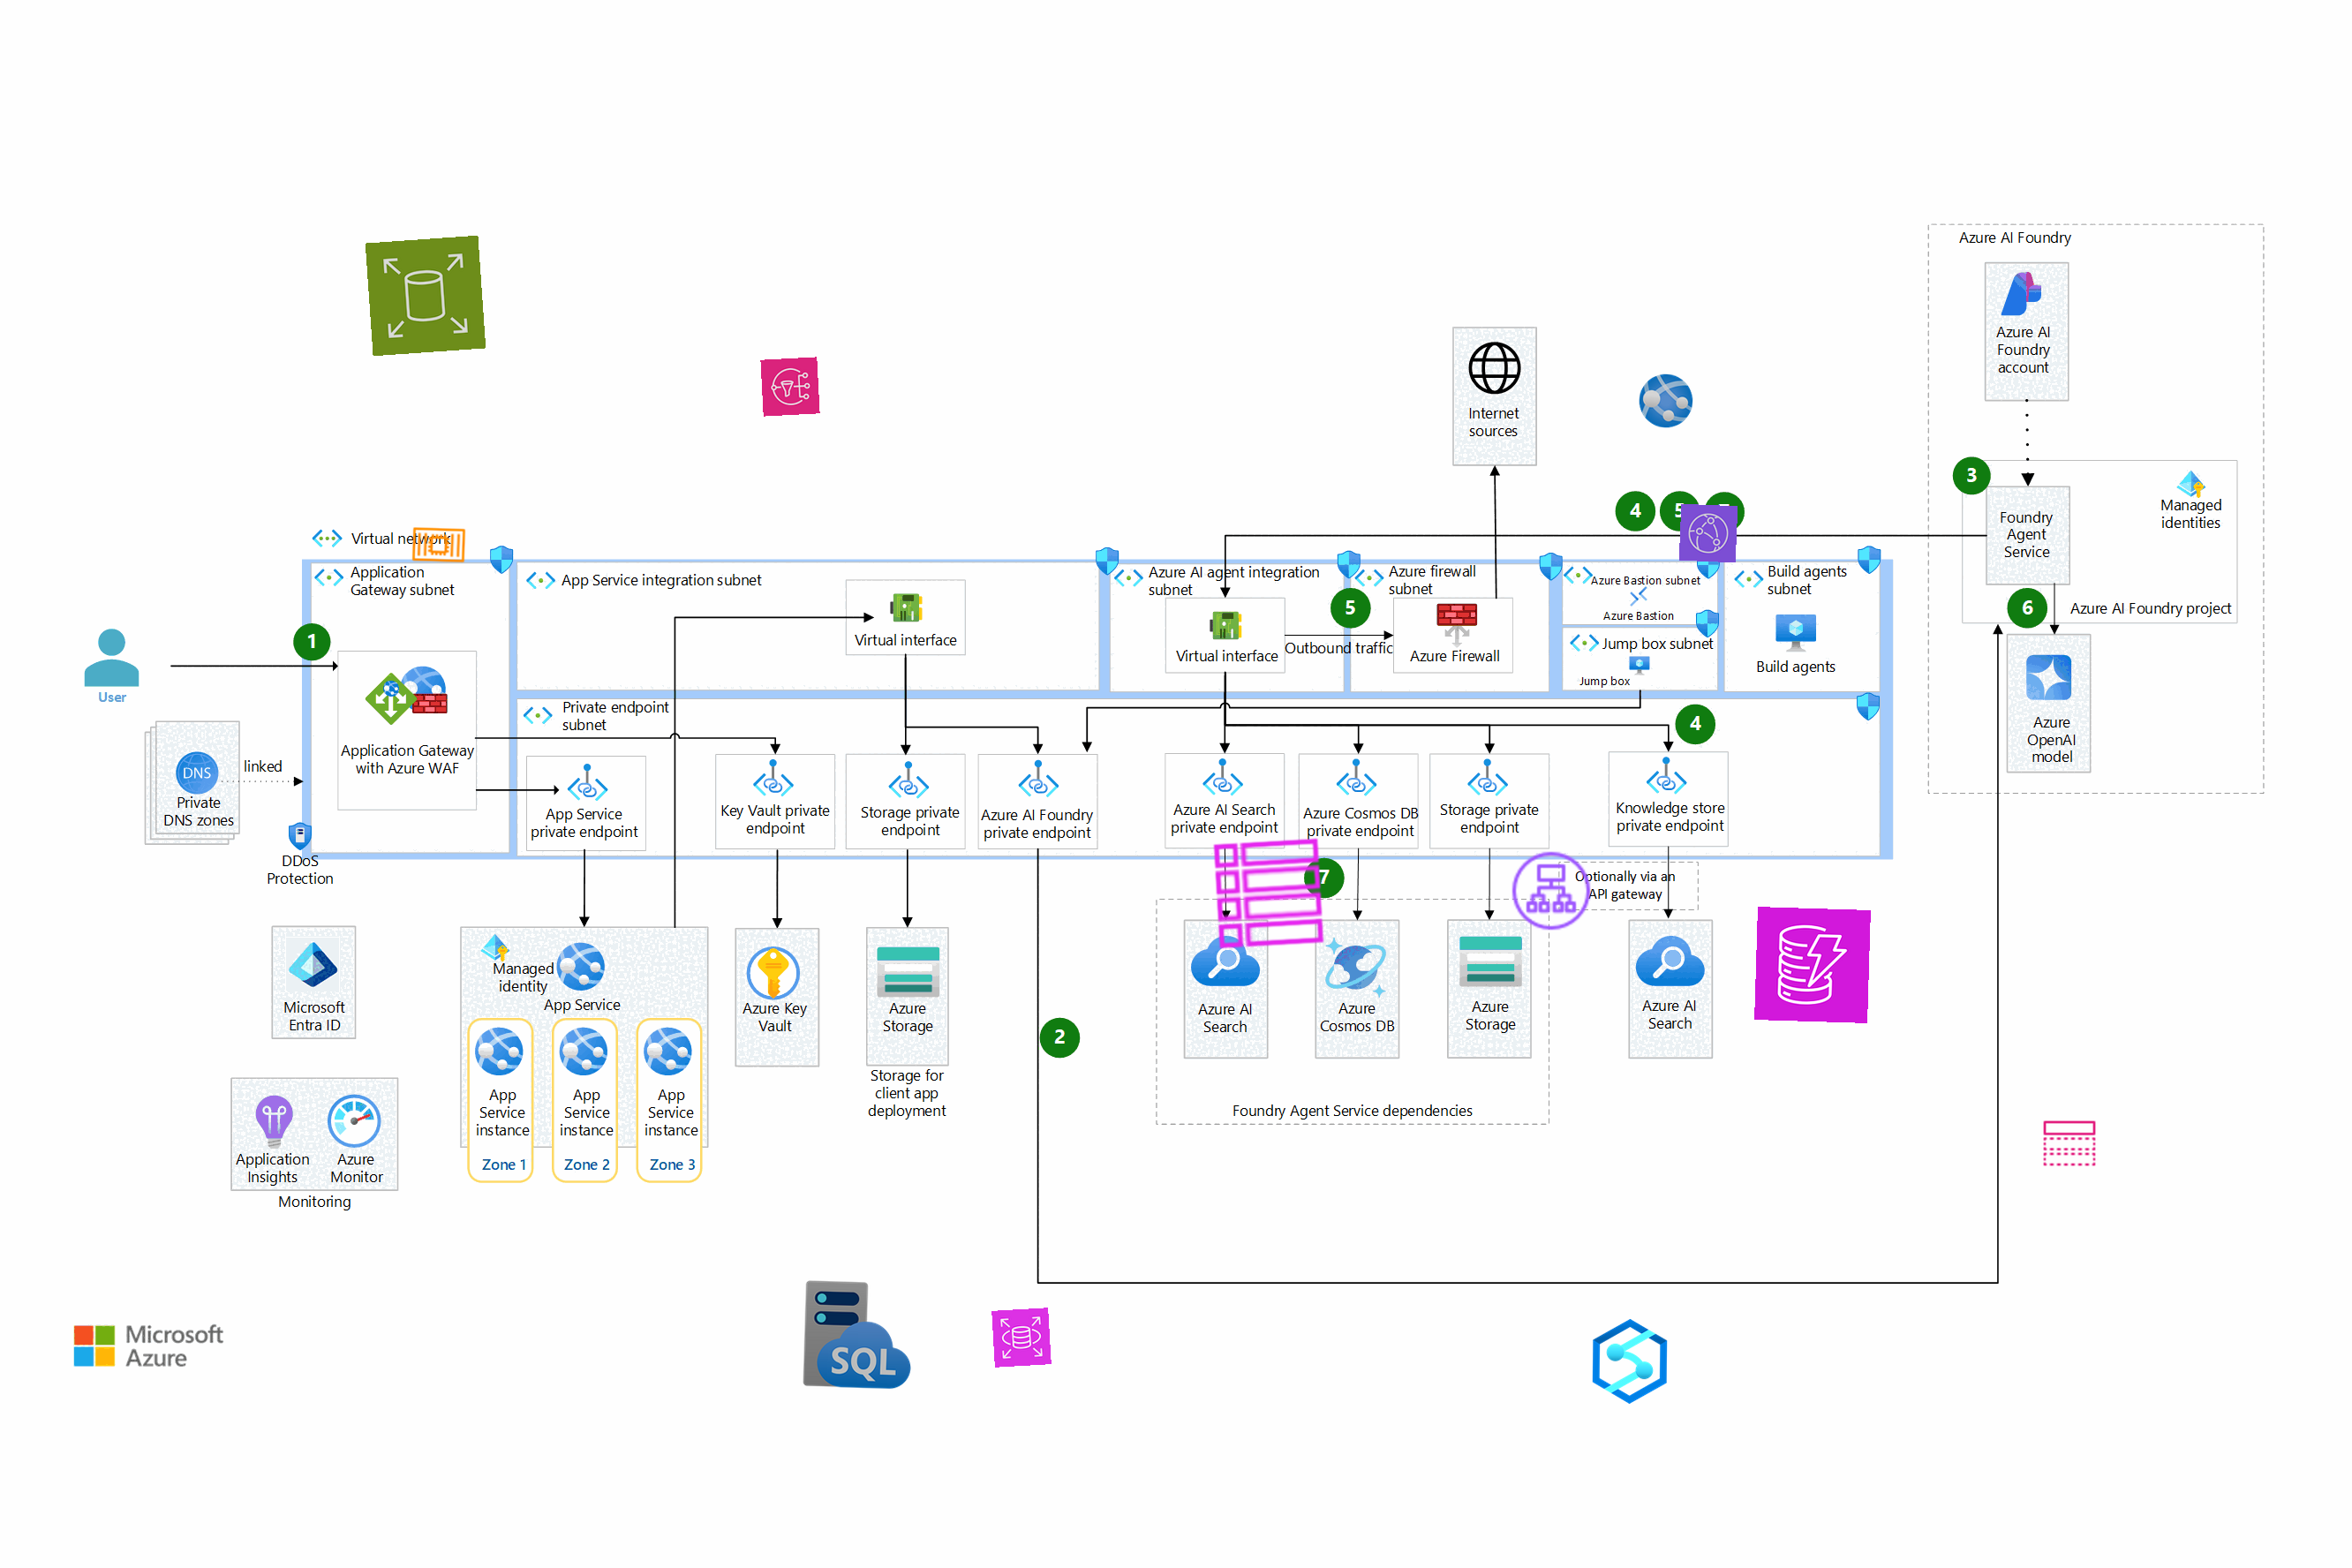aws_amazon_cloudfront: (1678, 504, 1738, 563)
aws_amazon_dynamodb: (1753, 906, 1871, 1024)
aws_amazon_elastic_block_store: (364, 235, 487, 357)
aws_amazon_rds: (992, 1307, 1052, 1367)
aws_amazon_simple_notification_service: (759, 357, 821, 416)
aws_dynamodb_table: (1209, 833, 1328, 954)
aws_elastic_container_service_container_2: (409, 514, 469, 574)
aws_elastic_load_balancing_application_load_balancer: (1508, 847, 1594, 934)
aws_simple_notification_service_topic: (2040, 1115, 2098, 1172)
azure_app_services: (1634, 369, 1697, 432)
azure_sql_managed_instance: (800, 1277, 917, 1393)
azure_synapse_analytics: (1587, 1318, 1673, 1405)
